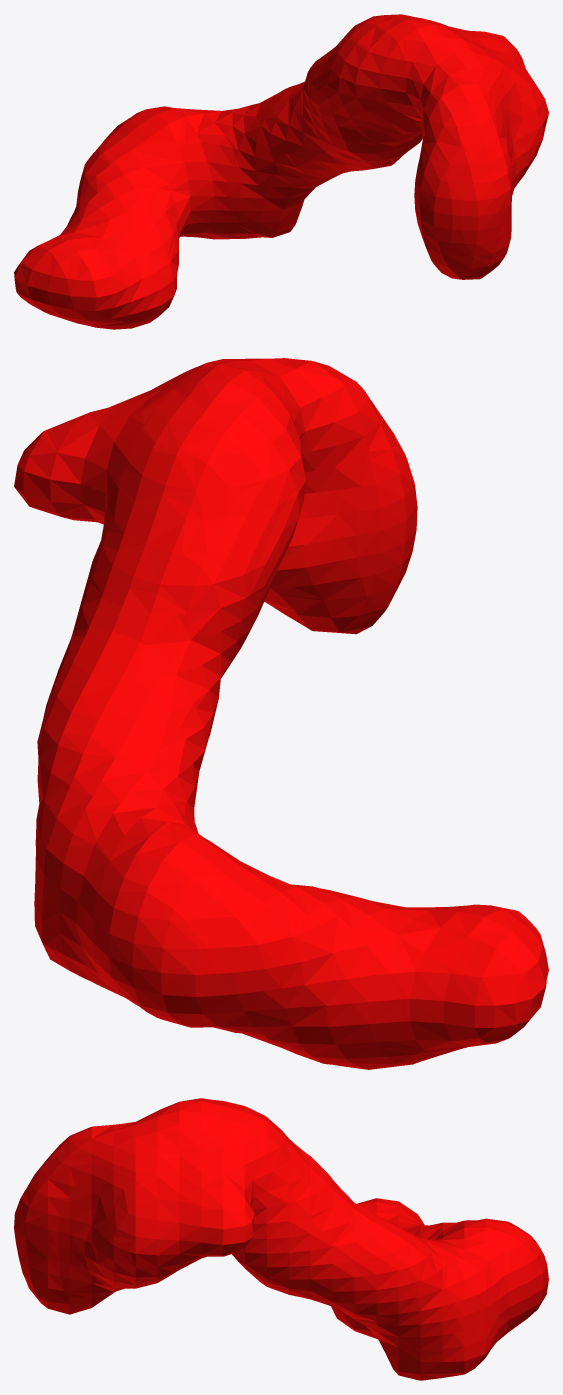
File: tatE_coarse.dae
The picture shows the model from 3 angles, top to bottom: view 1: azimuth 30°, elevation 25°; view 2: azimuth 150°, elevation 25°; view 3: azimuth 270°, elevation 25°; orthographic projection. The views are drawn at different scales.
Visible parts, largest first — view 1: tatE; view 2: tatE; view 3: tatE.
Boxes of the visible parts, x1,y1,x2,y2 form: tatE: (14,14,548,329); tatE: (14,358,548,1069); tatE: (14,1098,548,1380).
Size of the model in its own units: 53.41 by 39.67 by 58.17.
